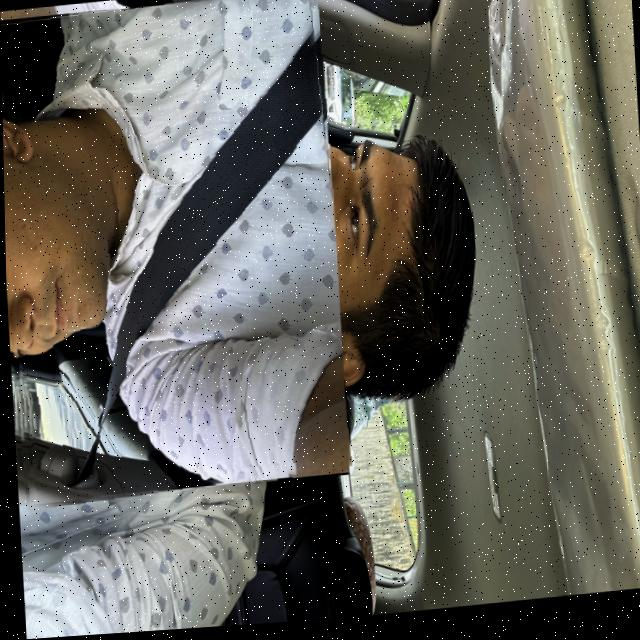seatbelt: (0, 0, 346, 508)
